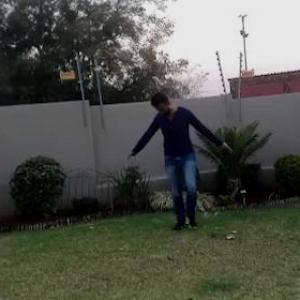land: (115, 82, 227, 246)
